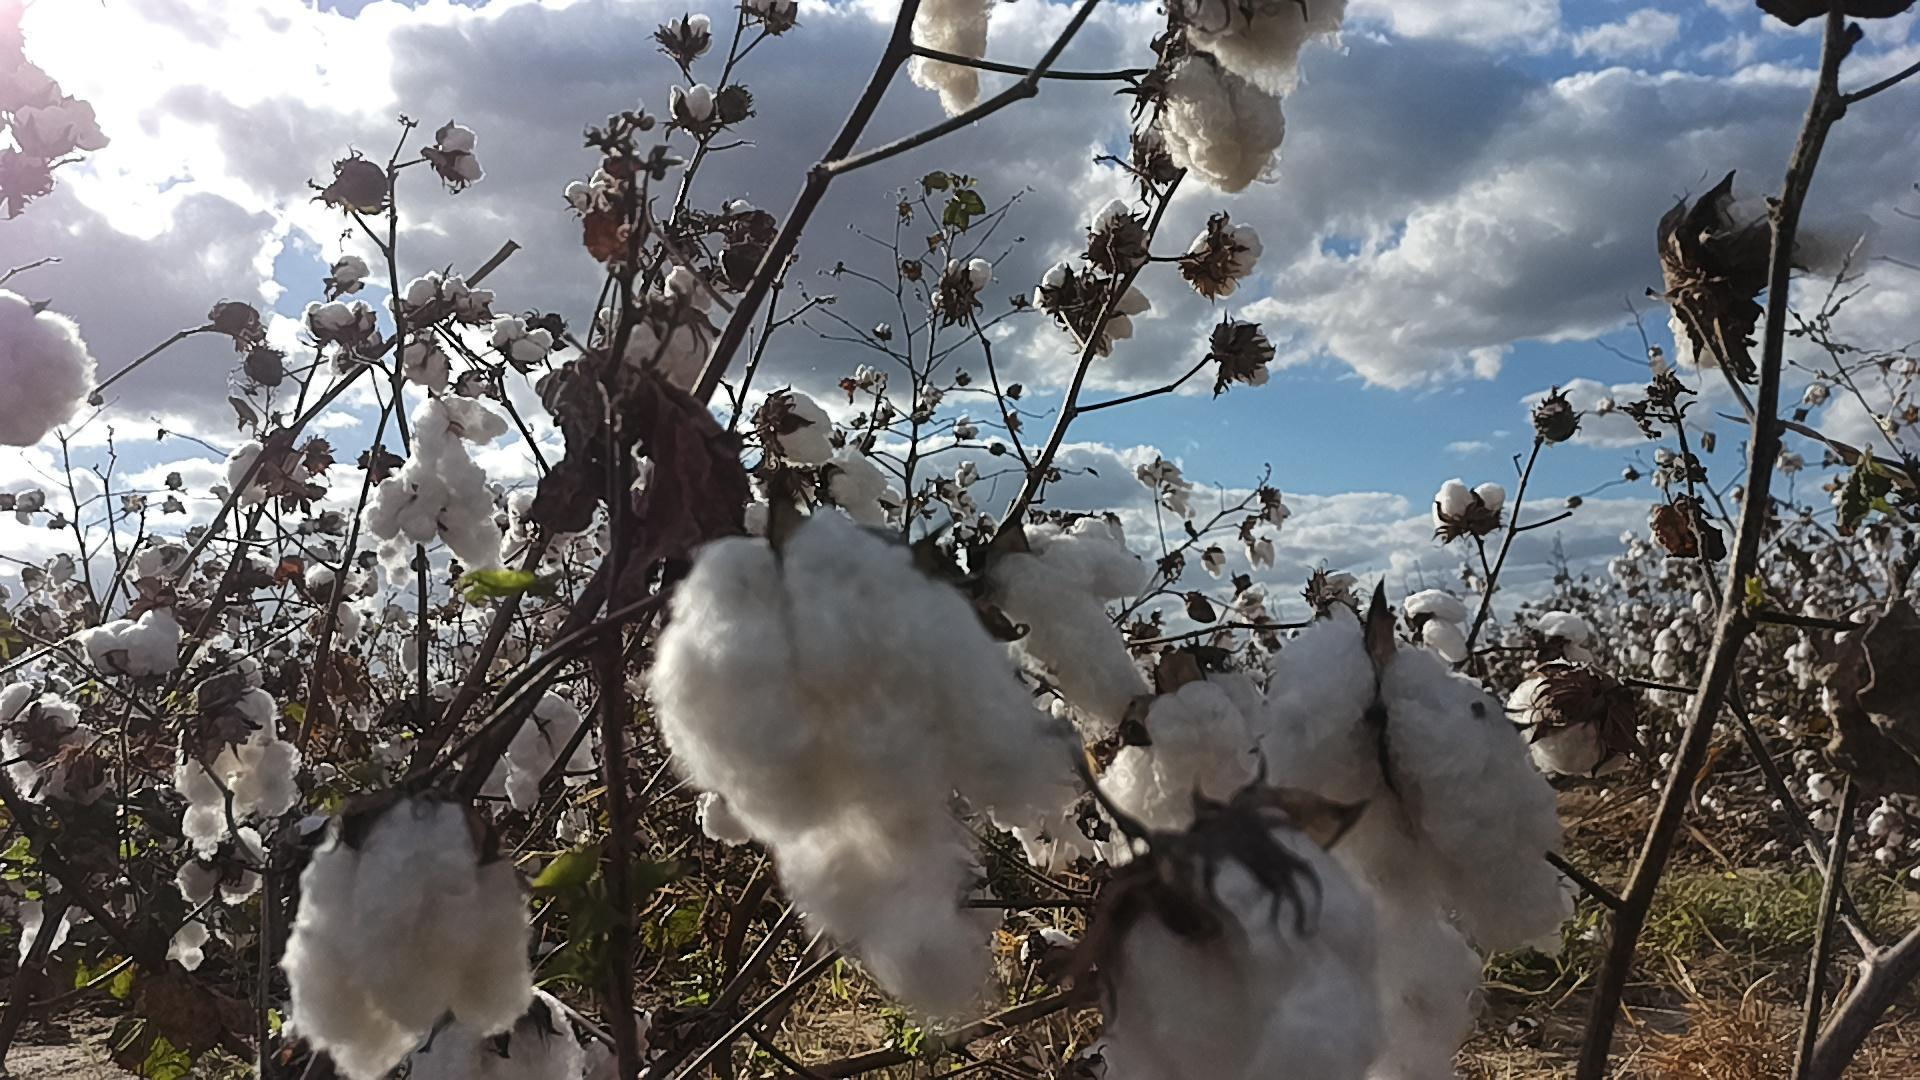cotton_ready: (655, 521, 1062, 1036), (1258, 618, 1565, 961), (282, 795, 534, 1079), (1100, 837, 1386, 1080), (1337, 856, 1486, 1080), (993, 526, 1158, 725), (1668, 210, 1871, 368), (1108, 661, 1262, 858), (178, 655, 306, 862), (361, 413, 508, 568), (1162, 57, 1288, 195), (1180, 0, 1352, 94), (0, 287, 94, 448), (406, 1004, 588, 1080), (1514, 673, 1629, 789), (1035, 264, 1155, 357), (508, 694, 597, 812), (910, 0, 996, 105), (0, 695, 80, 804), (616, 315, 711, 392), (84, 613, 183, 683), (758, 390, 836, 469), (1187, 223, 1259, 297), (823, 448, 889, 529), (1406, 591, 1472, 659), (1087, 199, 1150, 270), (1432, 477, 1506, 538), (1213, 322, 1269, 386), (1538, 611, 1593, 666)
